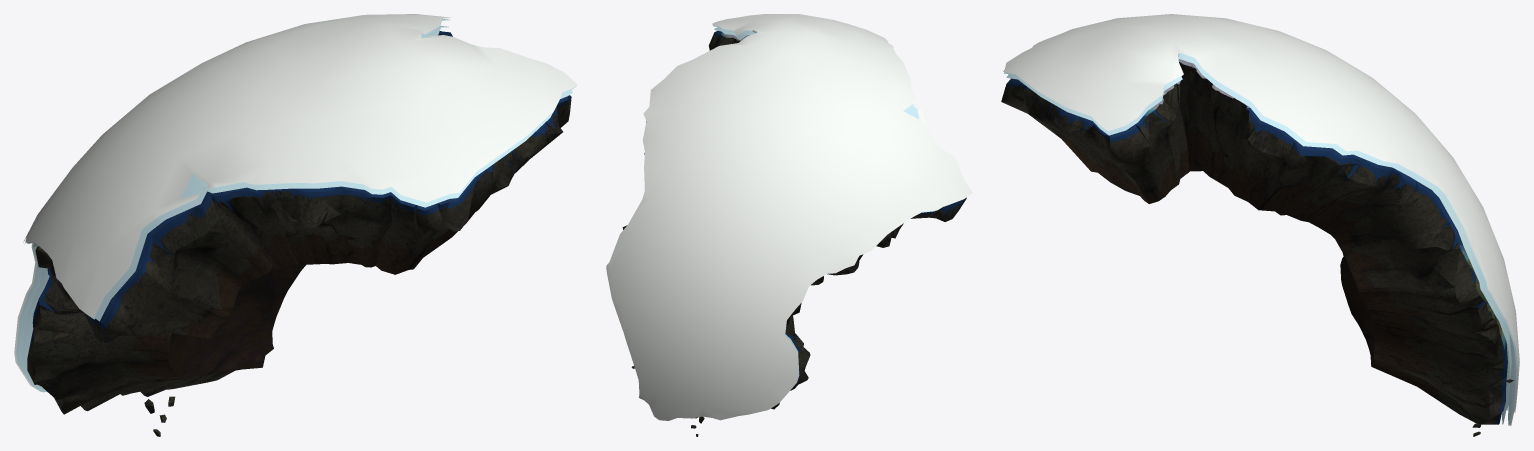
The model's file is Piece 4.fbx.
3 renders of one model, left to right at view 1: azimuth 30°, elevation 25°; view 2: azimuth 150°, elevation 25°; view 3: azimuth 270°, elevation 25°, orthographic. The views are drawn at different scales.
Visible parts, largest first — view 1: Piece_4; view 2: Piece_4; view 3: Piece_4.
Boxes of the visible parts, bbox=[...] form: Piece_4: bbox=[14, 14, 577, 436]; Piece_4: bbox=[606, 14, 972, 436]; Piece_4: bbox=[1001, 14, 1519, 436].
Bounding box in the file's own units: 6335 × 6854 × 7708.
